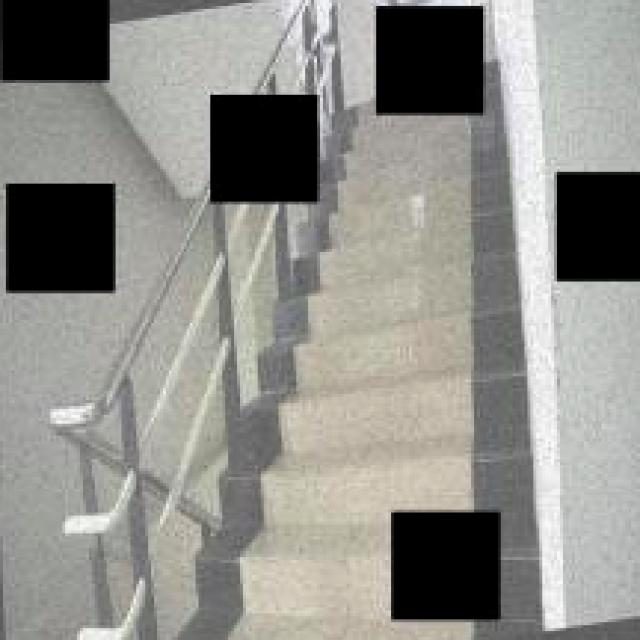upstair: (259, 211, 522, 481), (508, 306, 511, 324)
